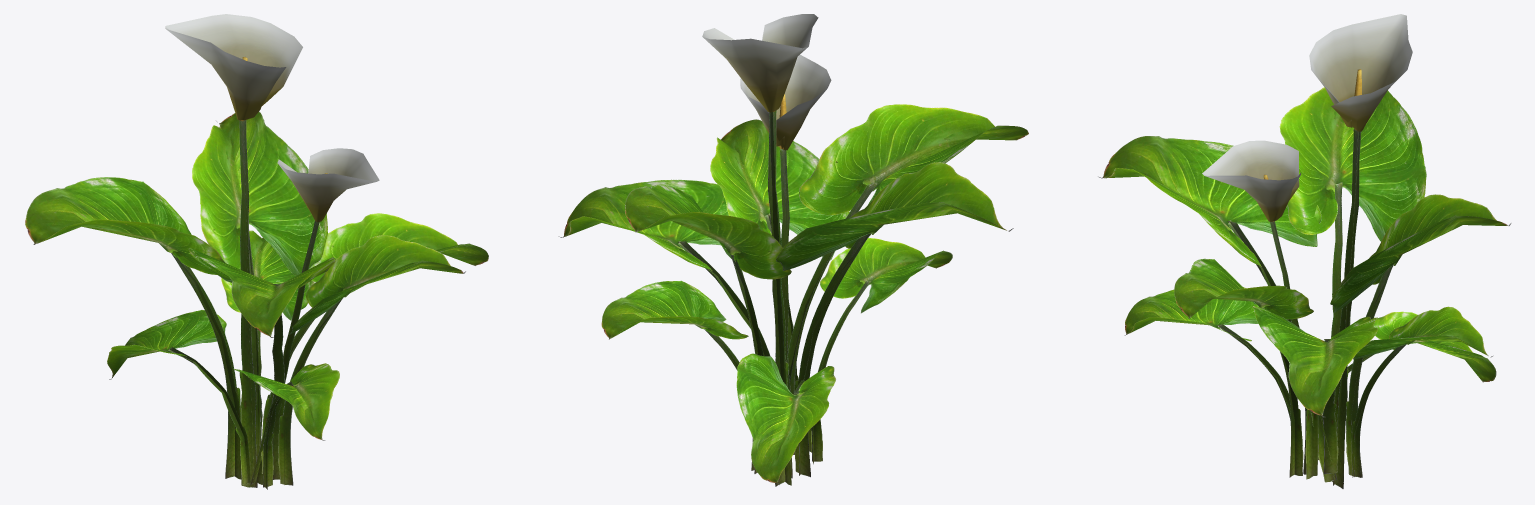
The model's file is Plant_waterLilly00.fbx.
3 views of the same model, side by side, from view 1: azimuth 30°, elevation 25°; view 2: azimuth 150°, elevation 25°; view 3: azimuth 270°, elevation 25° (orthographic). The views are drawn at different scales.
Parts seen in each view (by area): view 1: Plant_waterLilly00; view 2: Plant_waterLilly00; view 3: Plant_waterLilly00.
Part boxes in pixels (box(x1,y1,x2,y2)): Plant_waterLilly00: box(25, 14, 488, 489); Plant_waterLilly00: box(558, 14, 1028, 486); Plant_waterLilly00: box(1098, 14, 1511, 488).
Size of the model in its own units: 144 by 135 by 123.
